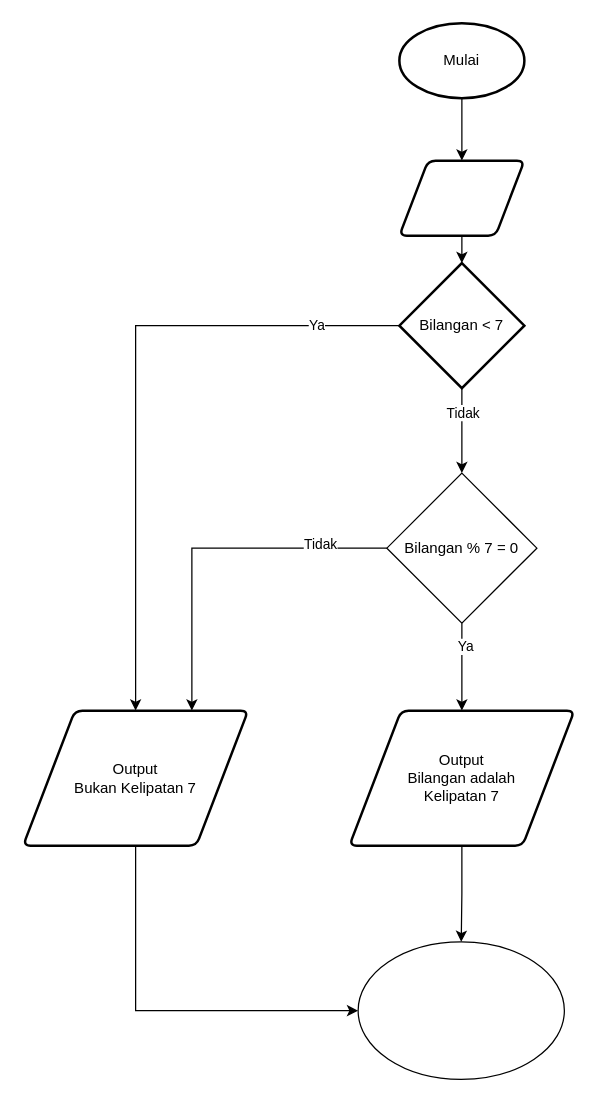
Image size: 596x1101. Some labels were removed from this diagram. Each missing label, with the box of its shape:
Input Bilangan: (398, 159, 525, 236)
Selesai: (357, 941, 564, 1079)
